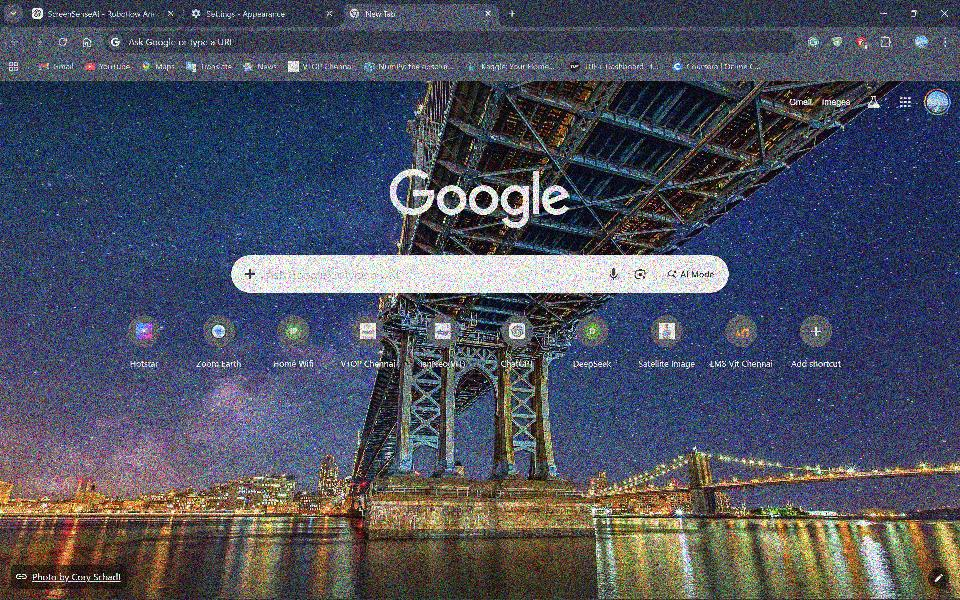close_button: (931, 2, 958, 24)
maximize_button: (902, 2, 925, 24)
minimize_button: (873, 2, 894, 24)
